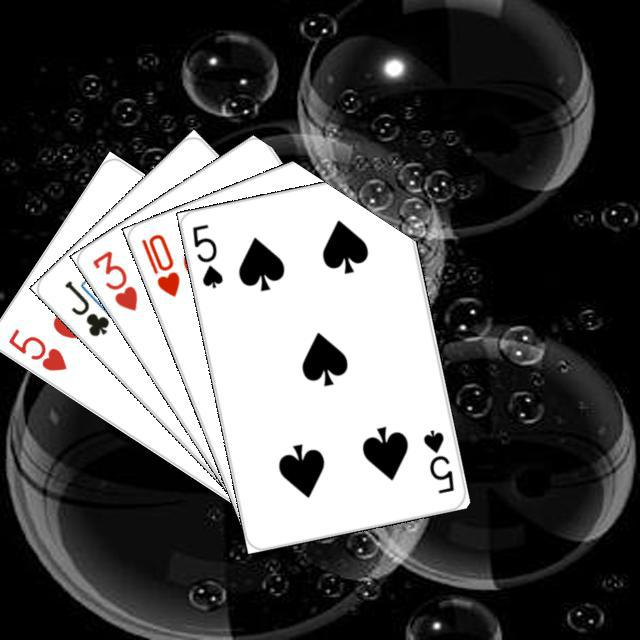10h: (136, 229, 182, 299)
3h: (87, 245, 140, 313)
5h: (3, 323, 69, 373)
5s: (187, 219, 225, 290), (418, 425, 456, 495)
Jc: (59, 275, 111, 338)
